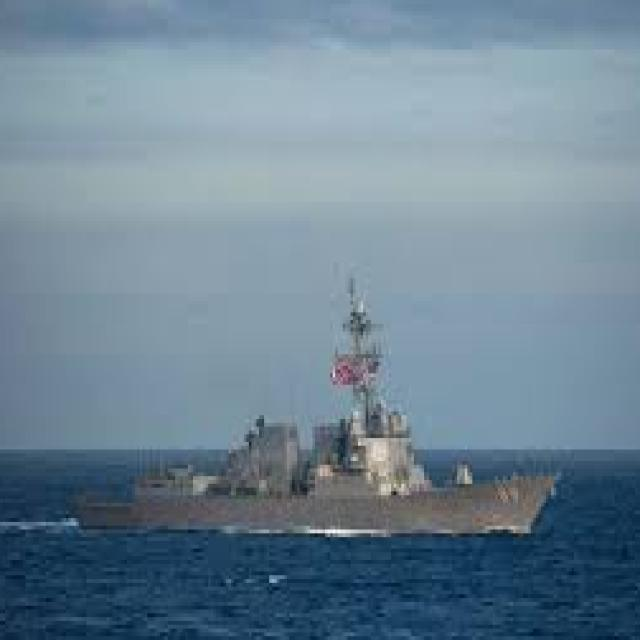navalvessels: (68, 291, 557, 534)
